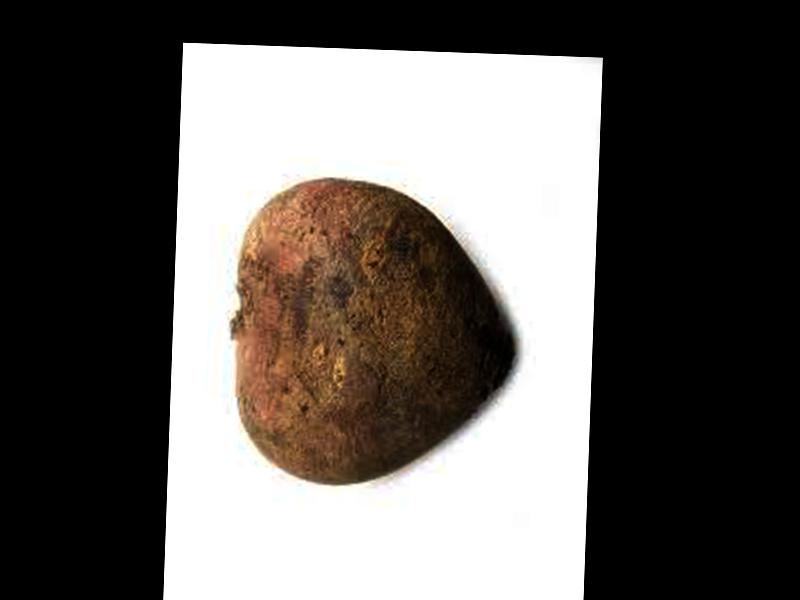Beet: (228, 174, 518, 493)
